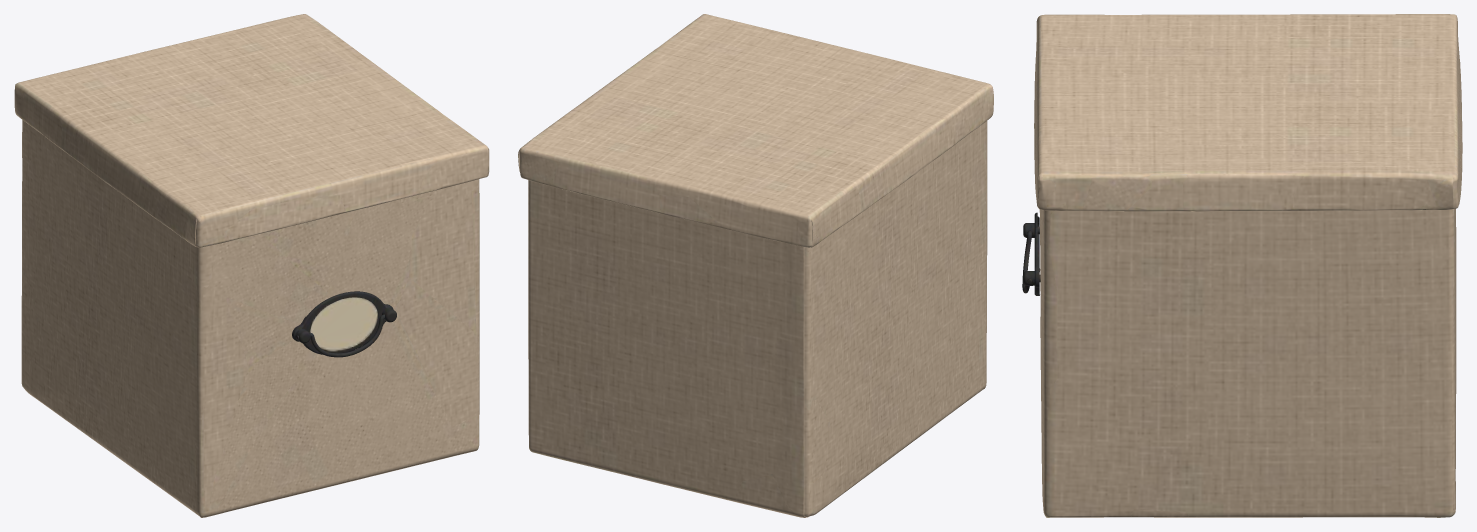
File: kvarnvik_pojemnik_z_pokrywka_00459480.glb
3 views of the same model, side by side, from view 1: azimuth 30°, elevation 25°; view 2: azimuth 150°, elevation 25°; view 3: azimuth 270°, elevation 25° (orthographic). The views are drawn at different scales.
Visible parts, largest first — view 1: kvarnvik_pojemnik_z_pokrywka_00459480; view 2: kvarnvik_pojemnik_z_pokrywka_00459480; view 3: kvarnvik_pojemnik_z_pokrywka_00459480.
Part boxes in pixels (left/top/right/bottom): kvarnvik_pojemnik_z_pokrywka_00459480: left=14, top=14, right=489, bottom=517; kvarnvik_pojemnik_z_pokrywka_00459480: left=518, top=14, right=993, bottom=517; kvarnvik_pojemnik_z_pokrywka_00459480: left=1022, top=14, right=1462, bottom=517.
Bounding box in the file's own units: 0.3232 × 0.3194 × 0.3637.
Materials: 1 (1 with a texture image).
